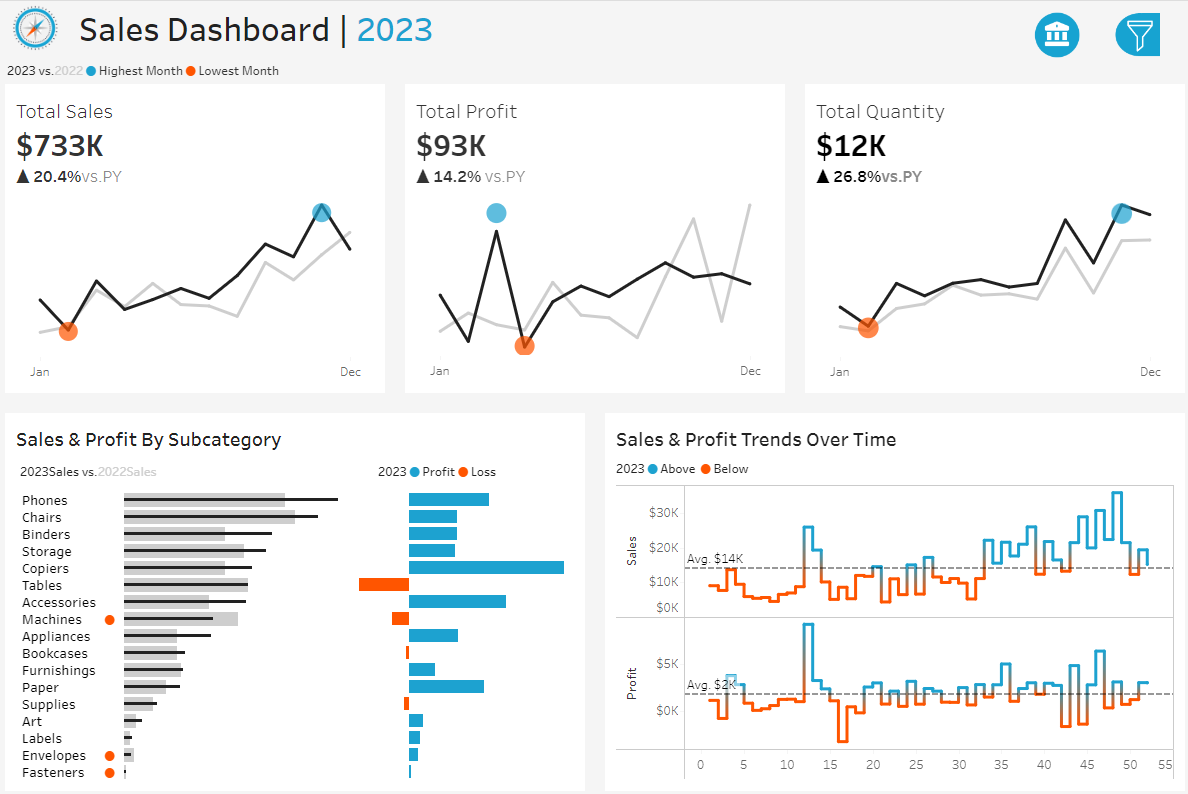

What the dashboard file says about the page in this screenshot:
{"tool":"tableau","page":{"name":"Sales Dashboard","canvas":[1200,800],"ordinal":0},"visuals":[{"type":"image","param":"D:/Data Analysis/PROJECTS/Projects_Repo/Sales-Dashboard-Tableau/Dashboard Icons/","box":[0,0,80,54]},{"type":"text","box":[80,0,959,54]},{"type":"dashboard-object","box":[1021,7,81,54]},{"type":"dashboard-object","box":[1102,7,80,54]},{"type":"blank","box":[991,10,199,60]},{"type":"worksheet","title":"Legend KPI","mark":"Automatic","box":[0,54,1200,29]},{"type":"text","box":[991,70,199,34]},{"type":"worksheet","title":"KPI Sales","mark":"Automatic","rows":["Calculation_1033294640444342277"],"cols":["Order Date"],"box":[0,83,400,319]},{"type":"worksheet","title":"KPI Profit ","mark":"Automatic","rows":["Calculation_1033294640478228493"],"cols":["Order Date"],"box":[400,83,400,319]},{"type":"worksheet","title":"KPi Quantity","mark":"Automatic","rows":["Min/Max Profit (copy)_1033294640551526419"],"cols":["Order Date"],"box":[800,83,400,319]},{"type":"parameter","param":"[Parameters].[Parameter 1]","box":[991,104,199,52]},{"type":"text","box":[991,156,199,29]},{"type":"filter","title":"KPI Sales","param":"[federated.0t3lg0a10djop313hfvcs08iwcry].[none:Category:nk]","box":[991,185,199,52]},{"type":"filter","title":"KPI Sales","param":"[federated.0t3lg0a10djop313hfvcs08iwcry].[none:Sub-Category:nk]","box":[991,237,199,52]},{"type":"blank","box":[991,289,199,61]},{"type":"text","box":[991,350,199,29]},{"type":"filter","title":"KPI Sales","param":"[federated.0t3lg0a10djop313hfvcs08iwcry].[none:Region:nk]","box":[991,379,199,52]},{"type":"text","box":[17,419,566,34]},{"type":"text","box":[617,419,566,34]},{"type":"filter","title":"KPI Sales","param":"[federated.0t3lg0a10djop313hfvcs08iwcry].[none:State:nk]","box":[991,431,199,52]},{"type":"worksheet","title":"Legend Subcategory","mark":"Automatic","box":[17,453,362,32]},{"type":"text","box":[379,453,204,32]},{"type":"text","box":[617,453,566,25]},{"type":"worksheet","title":"Weekly Trends","mark":"Line","rows":["Calculation_1033294640433557504","Calculation_1033294640471511050"],"cols":["Order Date"],"box":[617,478,566,305]},{"type":"filter","title":"KPI Sales","param":"[federated.0t3lg0a10djop313hfvcs08iwcry].[none:City:nk]","box":[991,483,199,52]},{"type":"worksheet","title":"subcategory comparison","mark":"Bar","rows":["Sub-Category","Calculation_1033294640562720791"],"cols":["CY Sales (copy)_1033294640434253825","Calculation_1033294640433557504","Calculation_1033294640471511050"],"box":[17,485,566,298]}]}

Visuals, with their boxes in screenshot pixels (x1, y1, x2, y2), scaled from the page's 1200x800 canvas onto the 1188x794 screenshot:
image: (x1=0, y1=0, x2=79, y2=54)
text: (x1=79, y1=0, x2=1029, y2=54)
dashboard-object: (x1=1011, y1=7, x2=1091, y2=61)
dashboard-object: (x1=1091, y1=7, x2=1170, y2=61)
blank: (x1=981, y1=10, x2=1178, y2=69)
"Legend KPI" worksheet: (x1=0, y1=54, x2=1187, y2=82)
text: (x1=981, y1=69, x2=1178, y2=103)
"KPI Sales" worksheet: (x1=0, y1=82, x2=396, y2=399)
"KPI Profit " worksheet: (x1=396, y1=82, x2=792, y2=399)
"KPi Quantity" worksheet: (x1=792, y1=82, x2=1187, y2=399)
parameter: (x1=981, y1=103, x2=1178, y2=155)
text: (x1=981, y1=155, x2=1178, y2=184)
"KPI Sales" filter: (x1=981, y1=184, x2=1178, y2=235)
"KPI Sales" filter: (x1=981, y1=235, x2=1178, y2=287)
blank: (x1=981, y1=287, x2=1178, y2=347)
text: (x1=981, y1=347, x2=1178, y2=376)
"KPI Sales" filter: (x1=981, y1=376, x2=1178, y2=428)
text: (x1=17, y1=416, x2=577, y2=450)
text: (x1=611, y1=416, x2=1171, y2=450)
"KPI Sales" filter: (x1=981, y1=428, x2=1178, y2=479)
"Legend Subcategory" worksheet: (x1=17, y1=450, x2=375, y2=481)
text: (x1=375, y1=450, x2=577, y2=481)
text: (x1=611, y1=450, x2=1171, y2=474)
"Weekly Trends" worksheet (Line marks): (x1=611, y1=474, x2=1171, y2=777)
"KPI Sales" filter: (x1=981, y1=479, x2=1178, y2=531)
"subcategory comparison" worksheet (Bar marks): (x1=17, y1=481, x2=577, y2=777)
